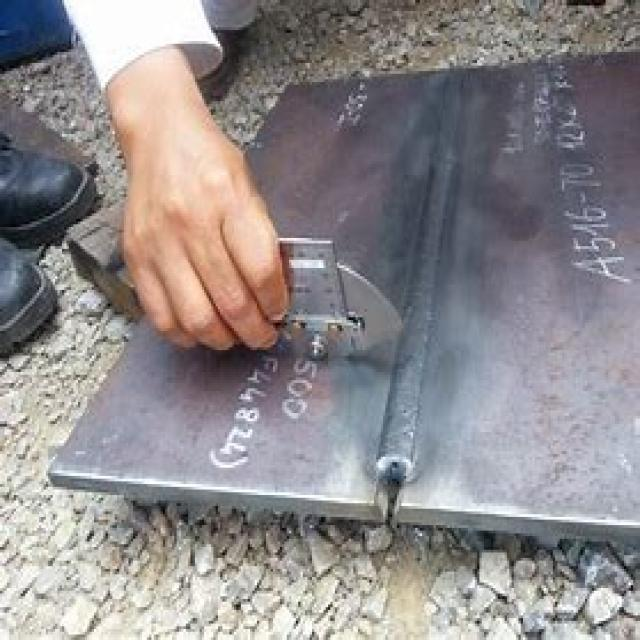Excess Reinforcement: (366, 370, 427, 503)
